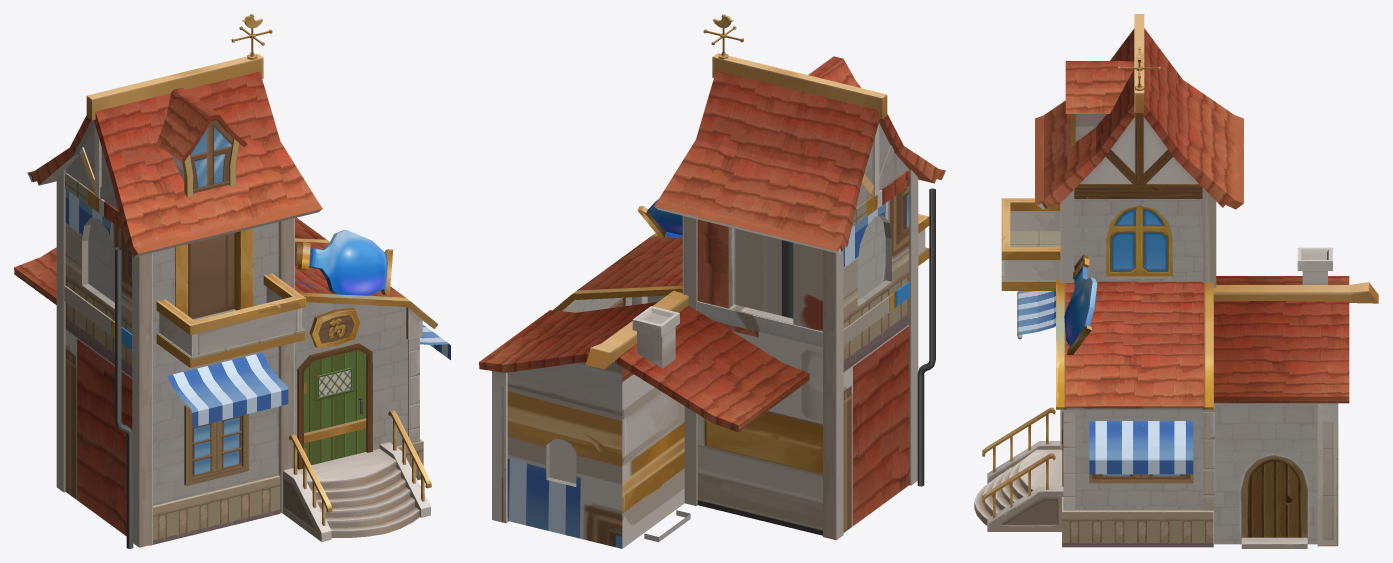
File: zhucheng_yaoshuidian.FBX
3 renders of one model, left to right at view 1: azimuth 30°, elevation 25°; view 2: azimuth 150°, elevation 25°; view 3: azimuth 270°, elevation 25°, orthographic. The views are drawn at different scales.
Parts seen in each view (by area): view 1: zhucheng_yaoshuidian; view 2: zhucheng_yaoshuidian; view 3: zhucheng_yaoshuidian.
Part boxes in pixels (x1,y1,x2,y2): zhucheng_yaoshuidian: (14, 14, 450, 548); zhucheng_yaoshuidian: (479, 14, 945, 548); zhucheng_yaoshuidian: (974, 14, 1378, 548).
Size of the model in its own units: 683 by 877 by 730.
